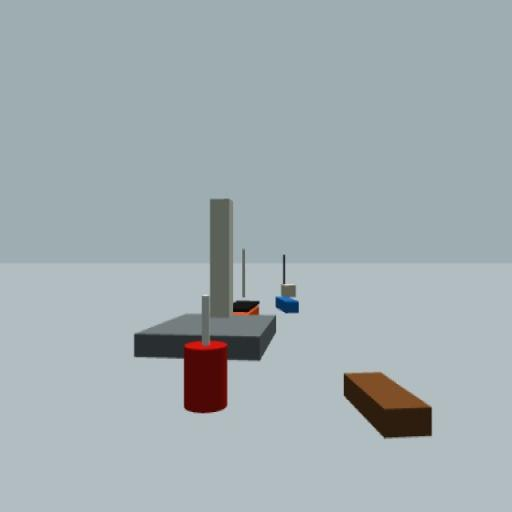debris_container: (343, 372, 433, 441)
fishing_boat: (276, 256, 298, 315)
floating_obstacle: (183, 295, 228, 415)
platform: (135, 196, 276, 358)
